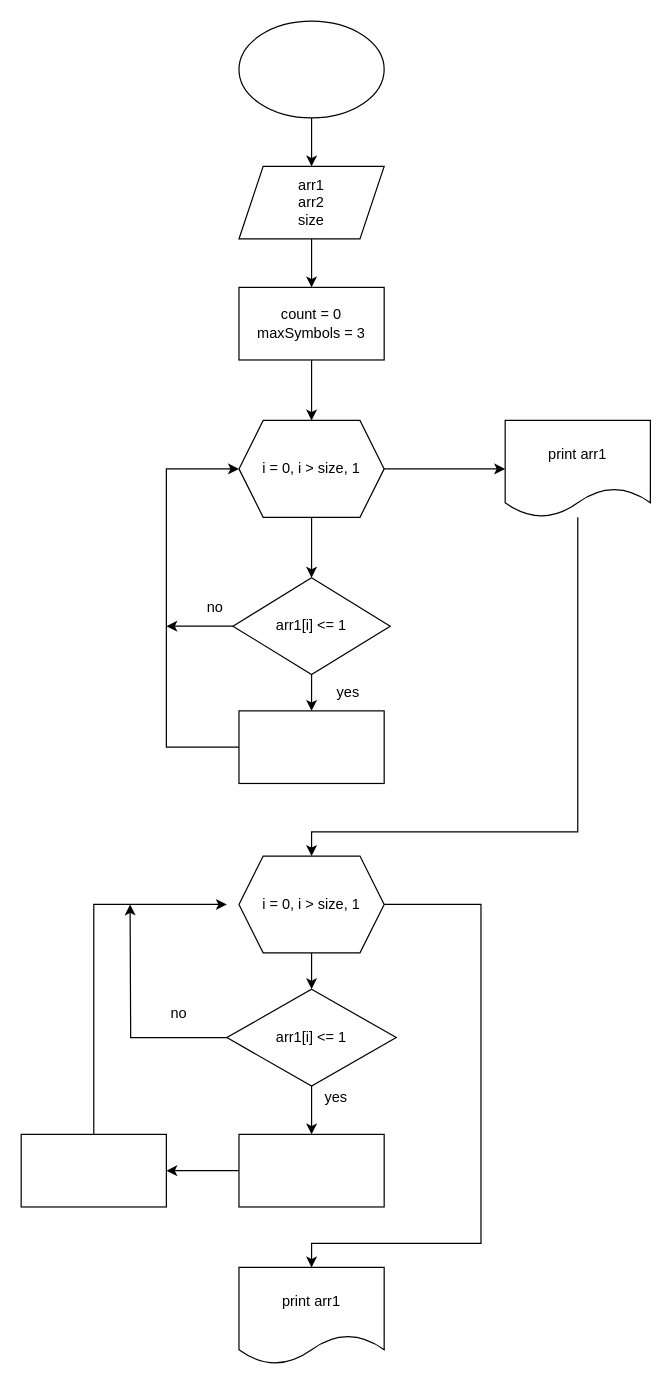
Image size: 672x1385. Some labels were removed from this diagram. The box of each missing label's shape, as (x1, y1, x2, y2) in pixels:
arr2[j] = arr1[i]: (238, 1133, 384, 1207)
count++: (238, 710, 384, 783)
j++: (20, 1133, 166, 1207)
Старт: (238, 20, 384, 118)
